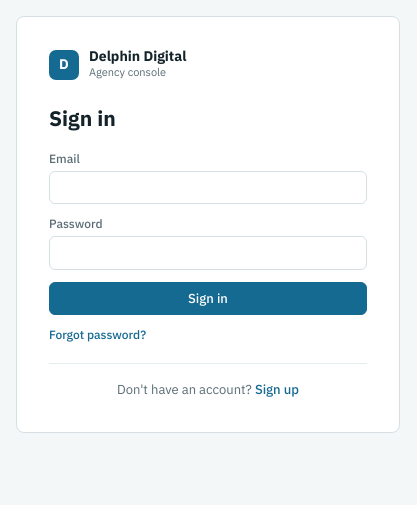
Test: sign in › shows the API message when sign-in fails
The width and height of the screenshot is (417, 505).
In the field labelled "Email": [208, 188] box [49,171,367,204], type "ada@example.com"
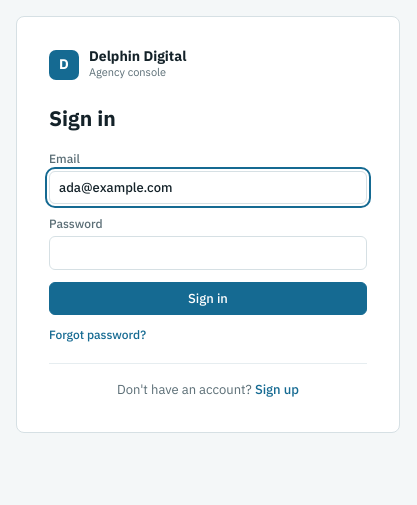
In the password field labelled "Password": [208, 253] box [49,236,367,270], type "wrong"
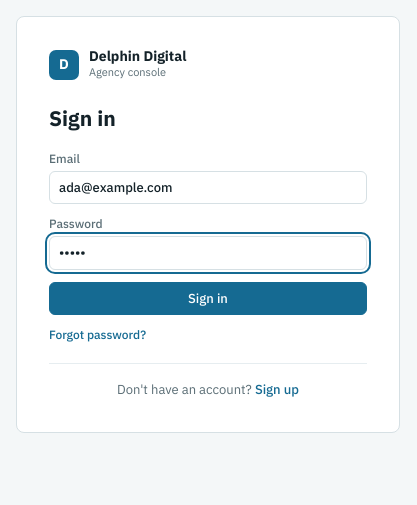
Click the button "Sign in": [208, 299] box [49,282,367,315]
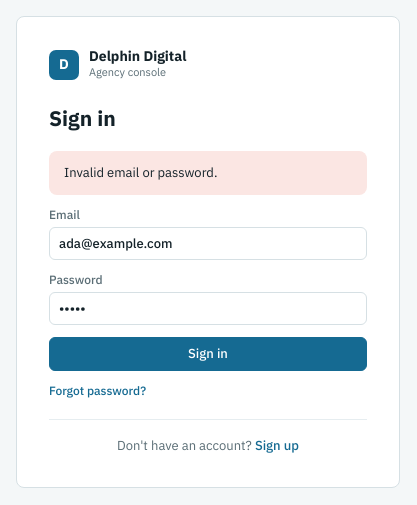
Result: the message reads "Invalid email or password." at [64,164,217,181]
